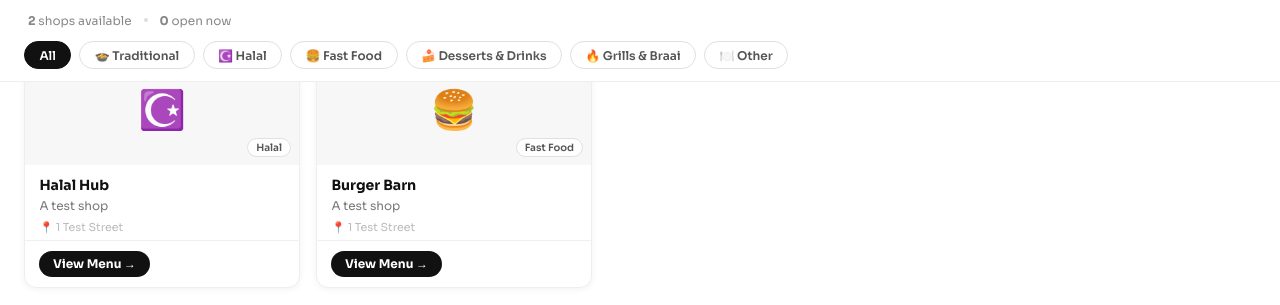
Dashboard.js › Category Filter Pills › shows all vendors again when "All" is re-selected
Expected: the heading "Halal Hub" is shown, [39,176,109,194]
Click the button "☪️ Halal".
click(242, 55)  # box [203,41,282,69]
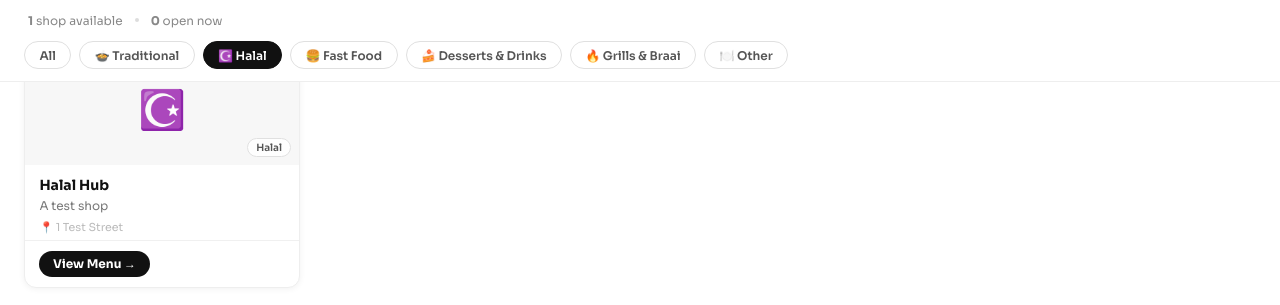
Click the button "All".
click(48, 55)  # box [24,41,71,69]
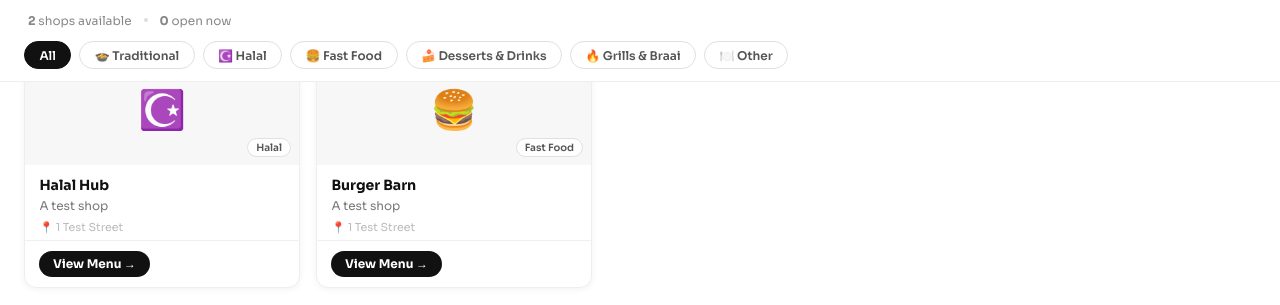
Expected: the heading "Halal Hub" is shown, [39,176,109,194]
Expected: the heading "Burger Barn" is shown, [331,176,416,194]
